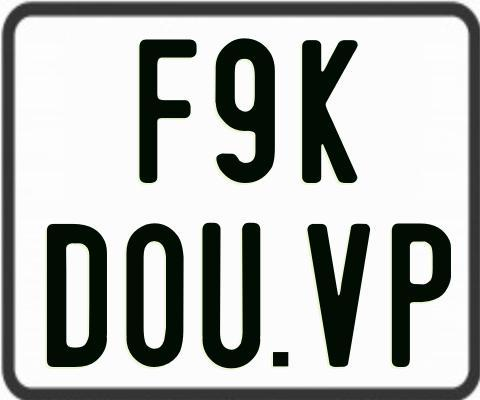0: (124, 221, 187, 366)
9: (213, 37, 279, 185)
D: (47, 223, 107, 369)
F: (138, 36, 202, 183)
K: (299, 40, 361, 186)
P: (389, 222, 451, 368)
U: (202, 222, 263, 371)
V: (304, 223, 371, 367)
